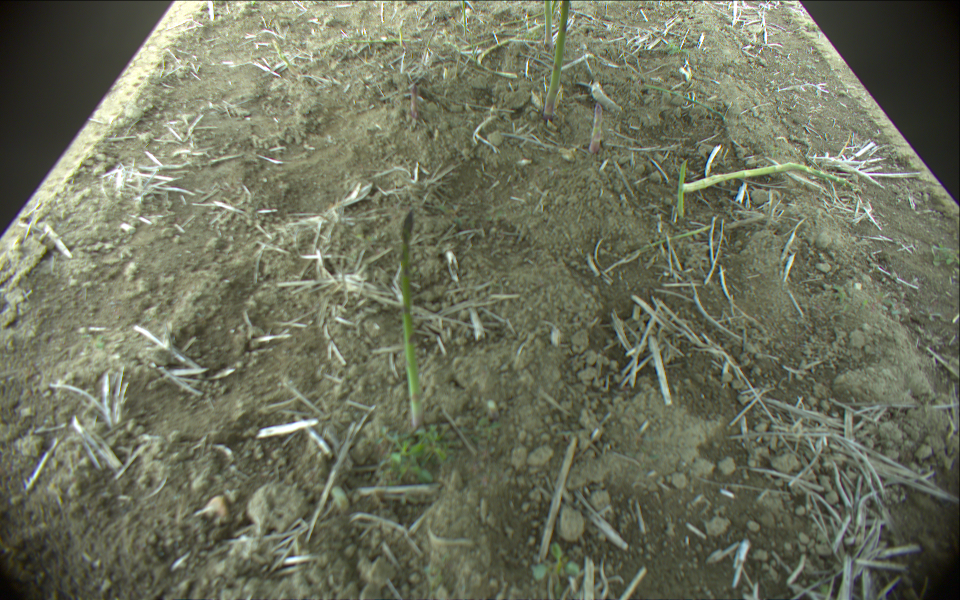aspa: (399, 213, 426, 432), (682, 161, 855, 193), (543, 1, 570, 114), (674, 161, 691, 220), (586, 104, 604, 155), (350, 37, 428, 47), (544, 1, 554, 46), (407, 85, 416, 119), (460, 1, 469, 33)
